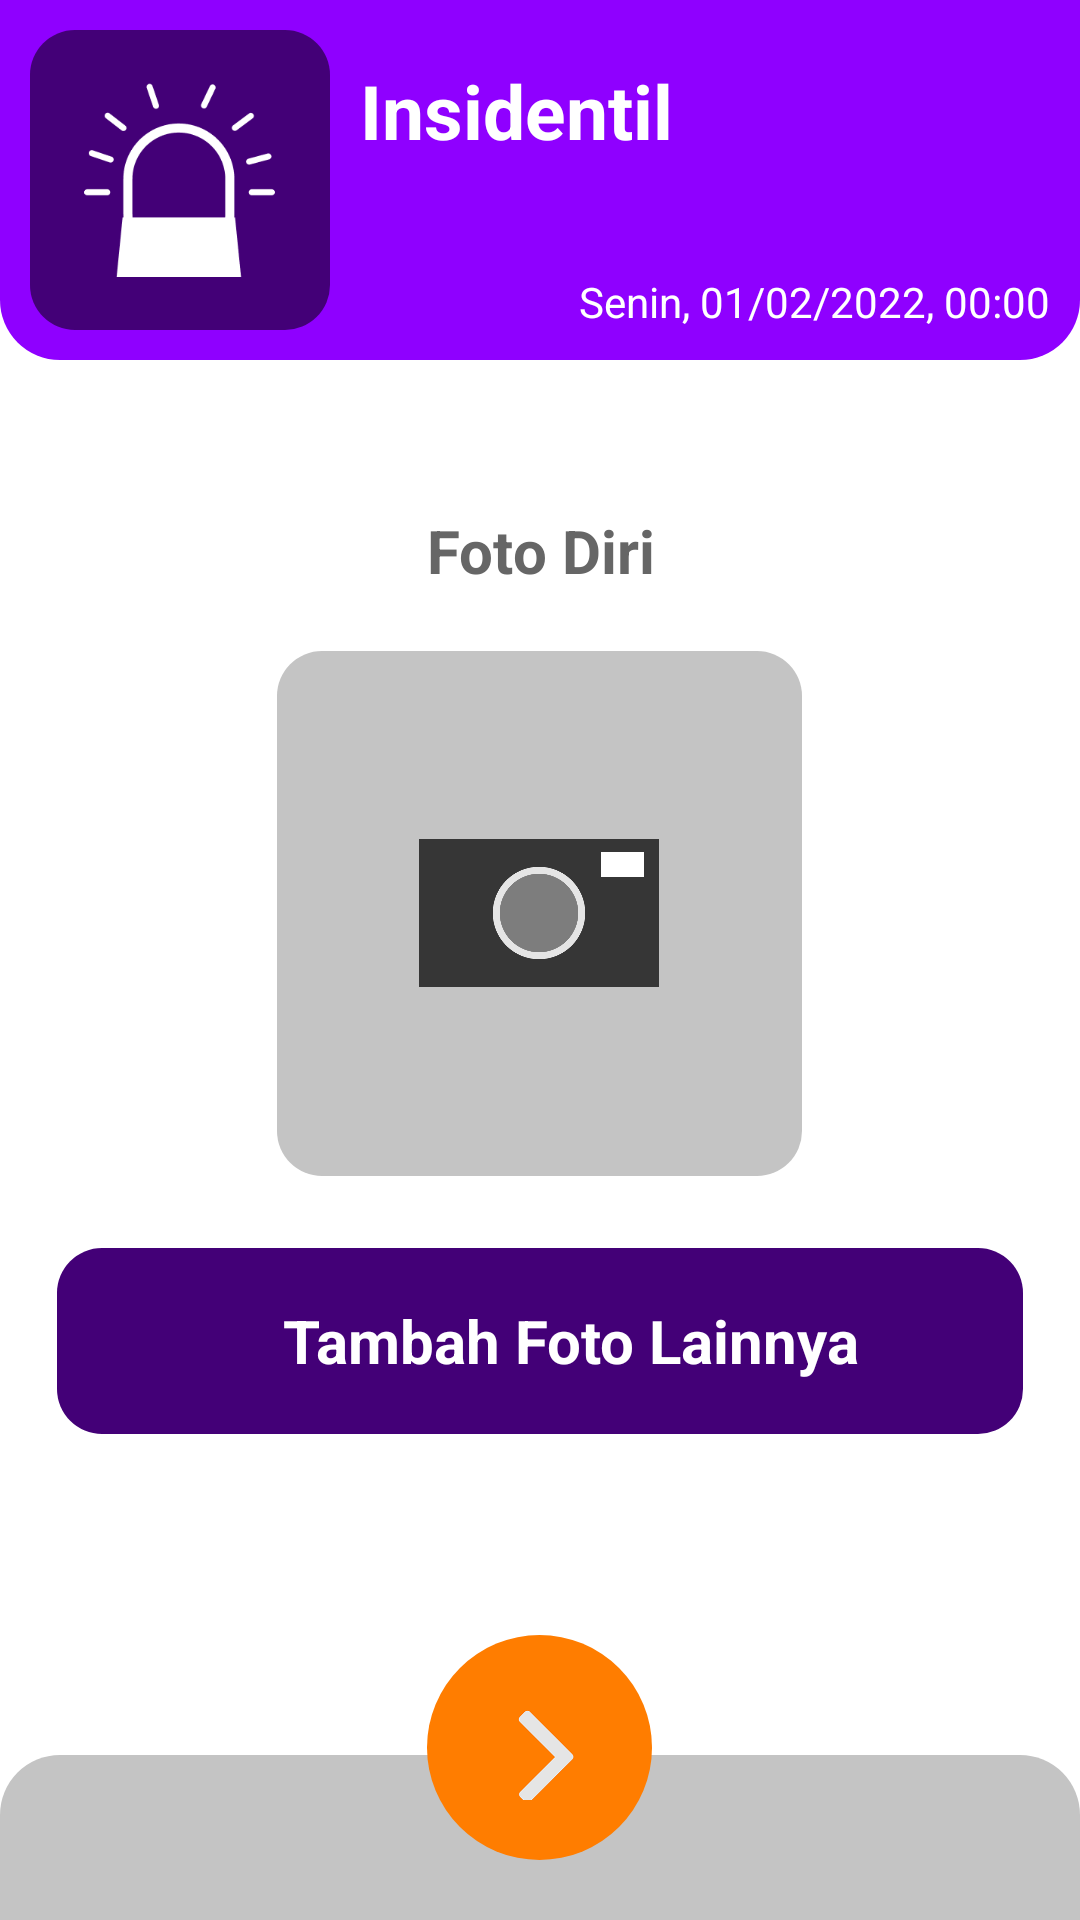

Where icons sit on this 1080 x 1920 app screen, as {"left": x1, "top": y1, "right": x2, "bottom": y2}:
camera: {"left": 419, "top": 839, "right": 659, "bottom": 987}
insedentil: {"left": 84, "top": 83, "right": 275, "bottom": 277}
